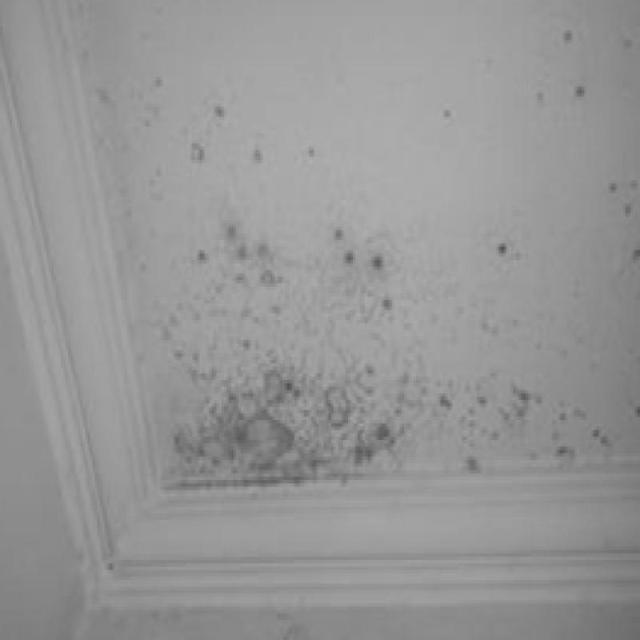stain marks: (88, 0, 640, 510)
